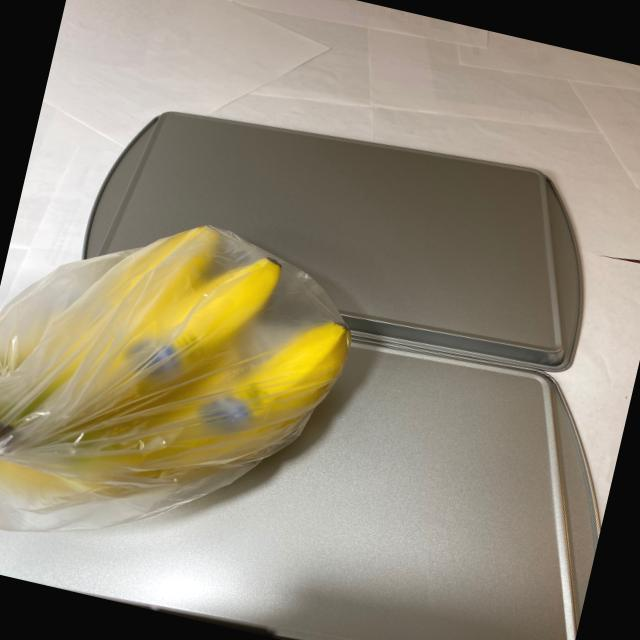banana: (0, 179, 377, 570)
